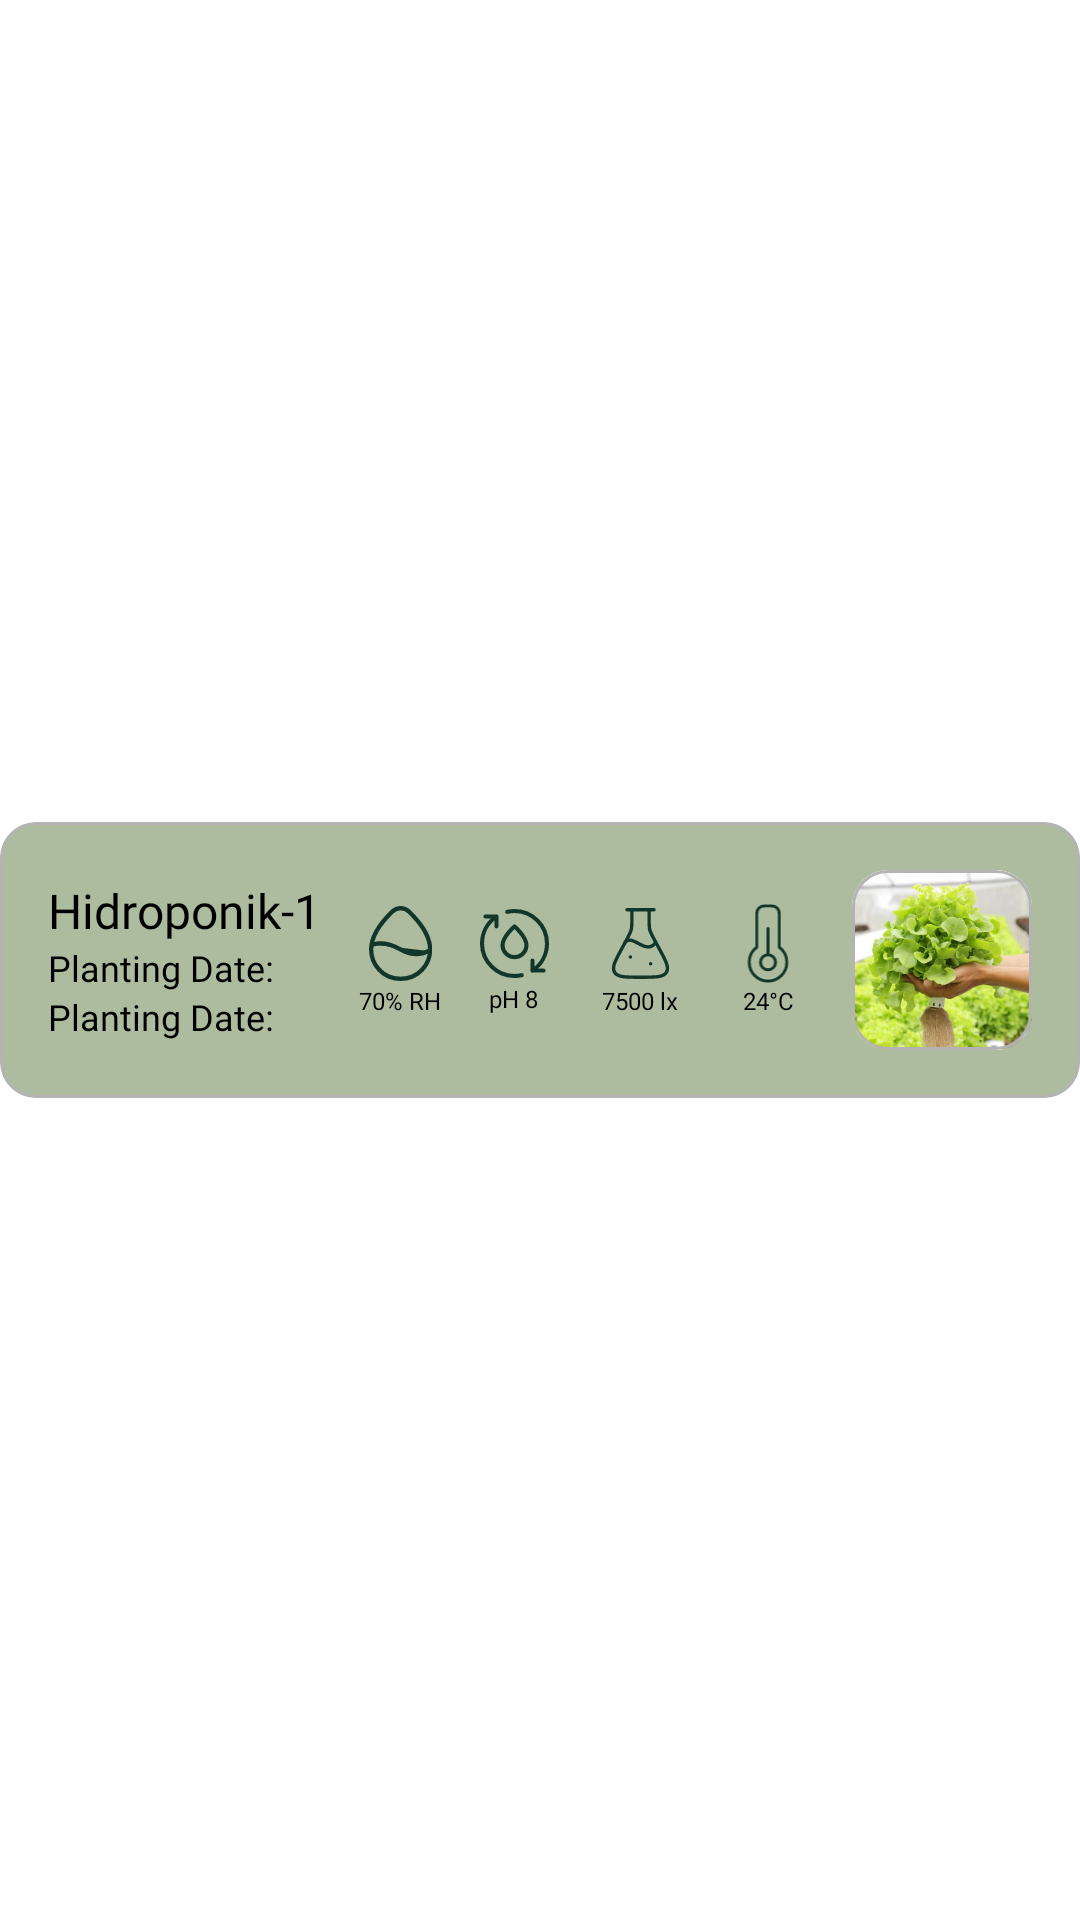

Screen size 1080px x 1920px. Icon name, then its box in pixels as (left=x1, top=y1, right=x2, bottom=y2):
lectuce: (left=852, top=870, right=1032, bottom=1050)
